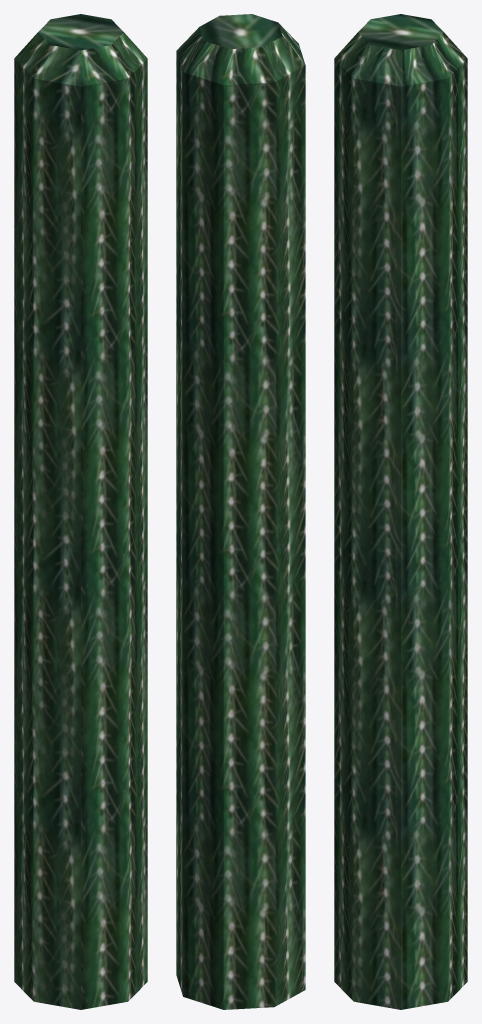
Rendered from cactus_4.fbx.
3 views of the same model, side by side, from view 1: azimuth 90°, elevation 25°; view 2: azimuth 210°, elevation 25°; view 3: azimuth 270°, elevation 25° (orthographic).
Parts seen in each view (by area): view 1: Cylinder; view 2: Cylinder; view 3: Cylinder.
Part boxes in pixels (x1,y1,x2,y2): Cylinder: [14, 14, 147, 1009]; Cylinder: [176, 14, 305, 1009]; Cylinder: [334, 14, 467, 1009].
Bounding box in the file's own units: 80.51 × 632 × 80.51.
Materials: 1 (1 with a texture image).
